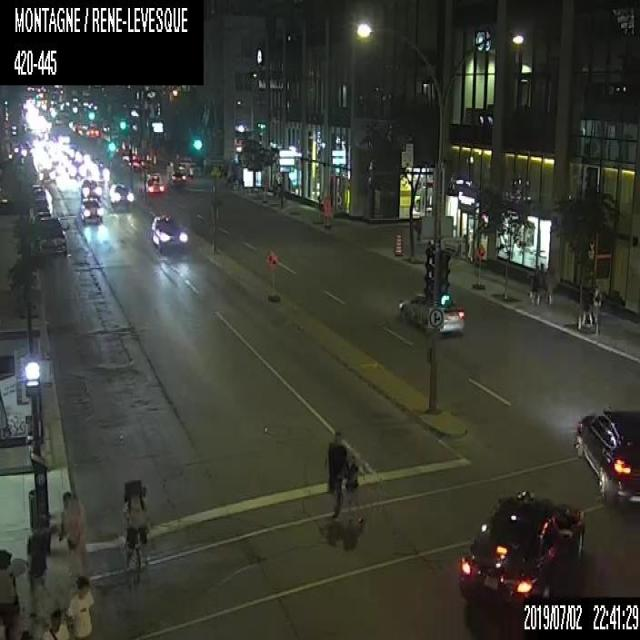construction: (266, 250, 276, 294), (323, 194, 332, 225), (393, 232, 402, 255)
cyclist: (122, 478, 146, 586)
pedestrian: (58, 487, 90, 580), (26, 512, 48, 615), (0, 548, 21, 639), (326, 431, 346, 526), (66, 574, 95, 638), (344, 457, 363, 522), (39, 611, 68, 638), (580, 283, 592, 329), (529, 263, 540, 308), (544, 265, 554, 305), (0, 622, 5, 638)
vehicle: (456, 488, 584, 613), (573, 408, 639, 501), (397, 290, 465, 334), (29, 210, 67, 254), (148, 211, 187, 249), (29, 187, 52, 214), (110, 180, 133, 207), (79, 196, 101, 224), (79, 178, 101, 199), (144, 171, 164, 193), (172, 167, 187, 184), (177, 162, 193, 177)
